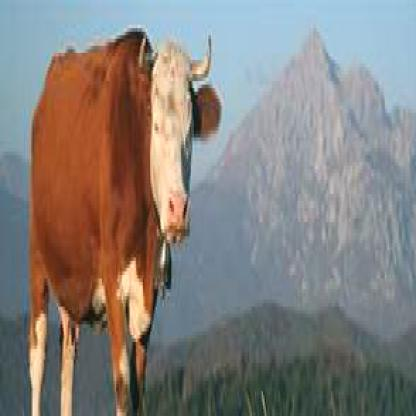cow: (22, 21, 224, 413)
